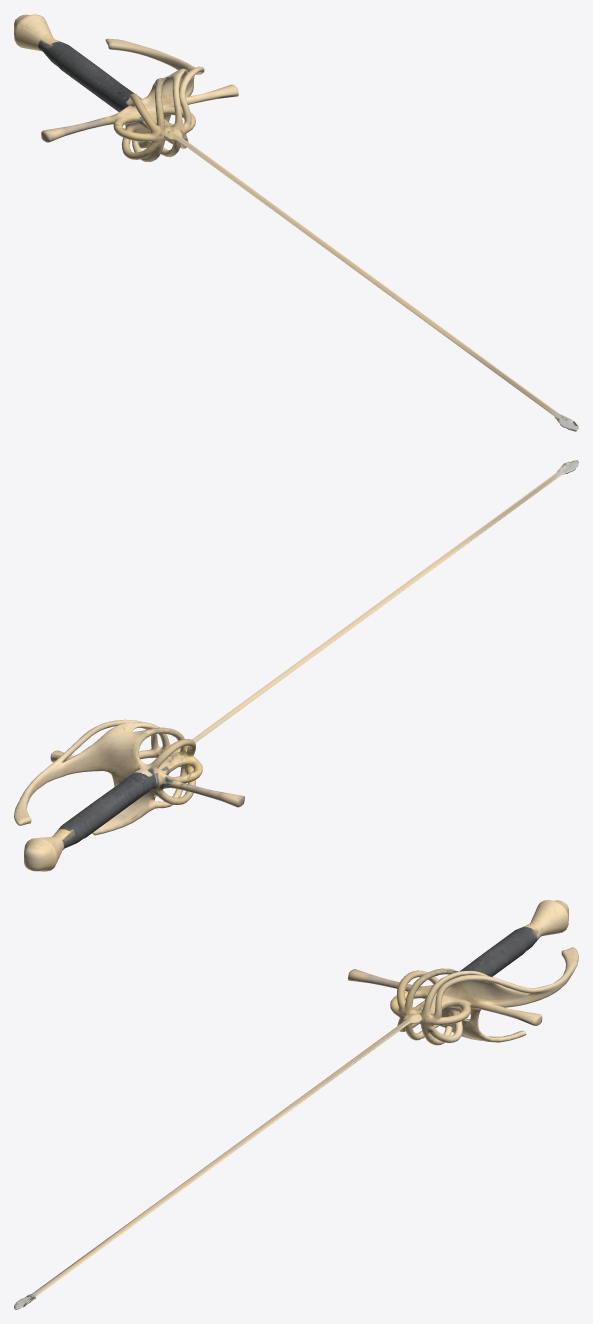
File: Rapier.fbx
The picture shows the model from 3 angles, top to bottom: view 1: azimuth 30°, elevation 25°; view 2: azimuth 150°, elevation 25°; view 3: azimuth 330°, elevation 25°; orthographic projection.
Parts seen in each view (by area): view 1: part_0, part_1; view 2: part_0, part_1; view 3: part_0, part_1.
Boxes of the visible parts, bbox=[...] form: part_0: bbox=[14, 14, 238, 161]; part_1: bbox=[164, 128, 578, 431]; part_0: bbox=[14, 719, 244, 871]; part_1: bbox=[175, 460, 578, 751]; part_0: bbox=[348, 900, 578, 1045]; part_1: bbox=[14, 1013, 421, 1309].
Size of the model in its own units: 23.81 by 11.01 by 120.
1 material, 1 textured.
